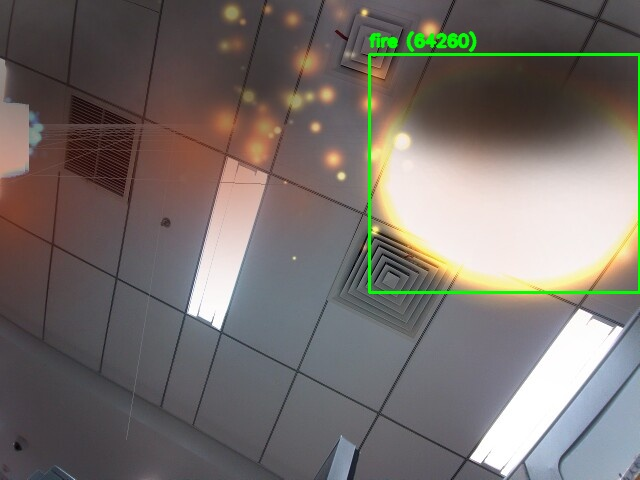fire: (369, 54, 639, 292)
